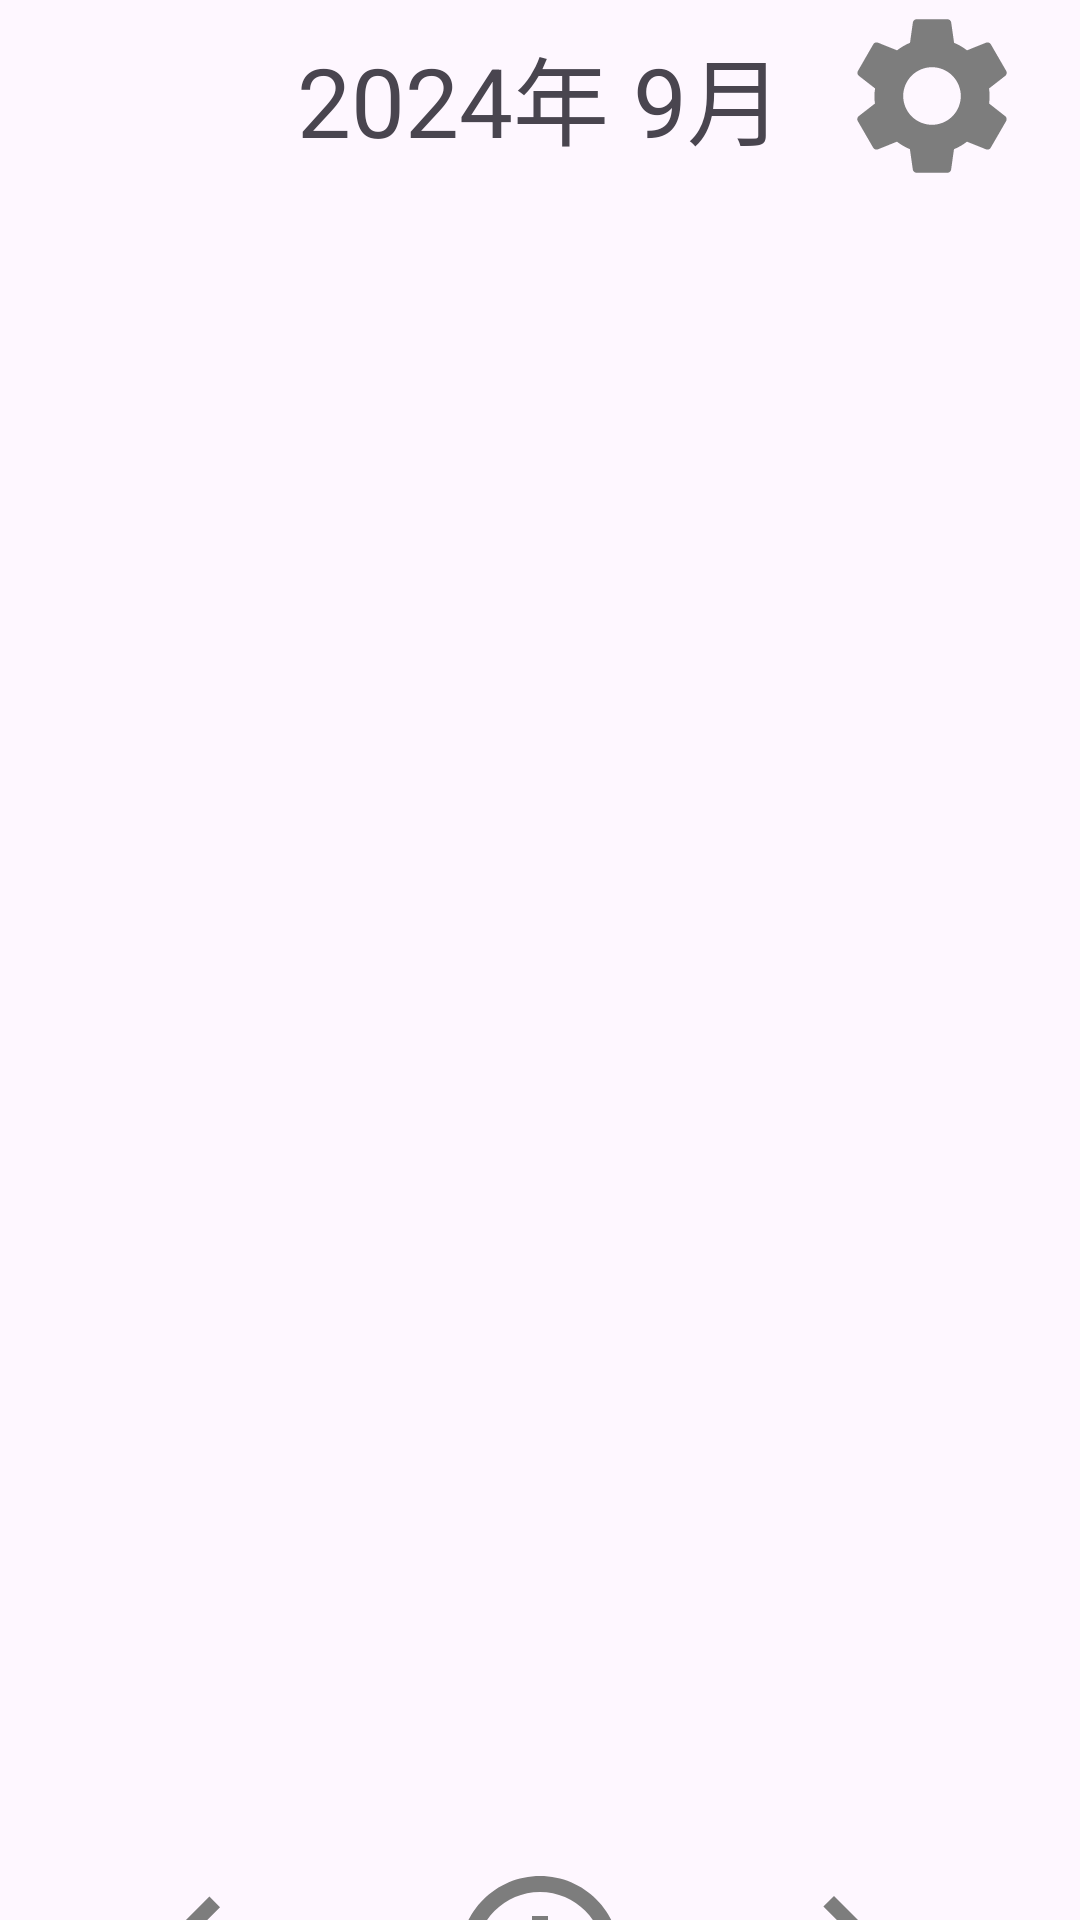

Screen size 1080x1920. Icon name, then its center in pixels as [x,y]:
settings: [932,96]
